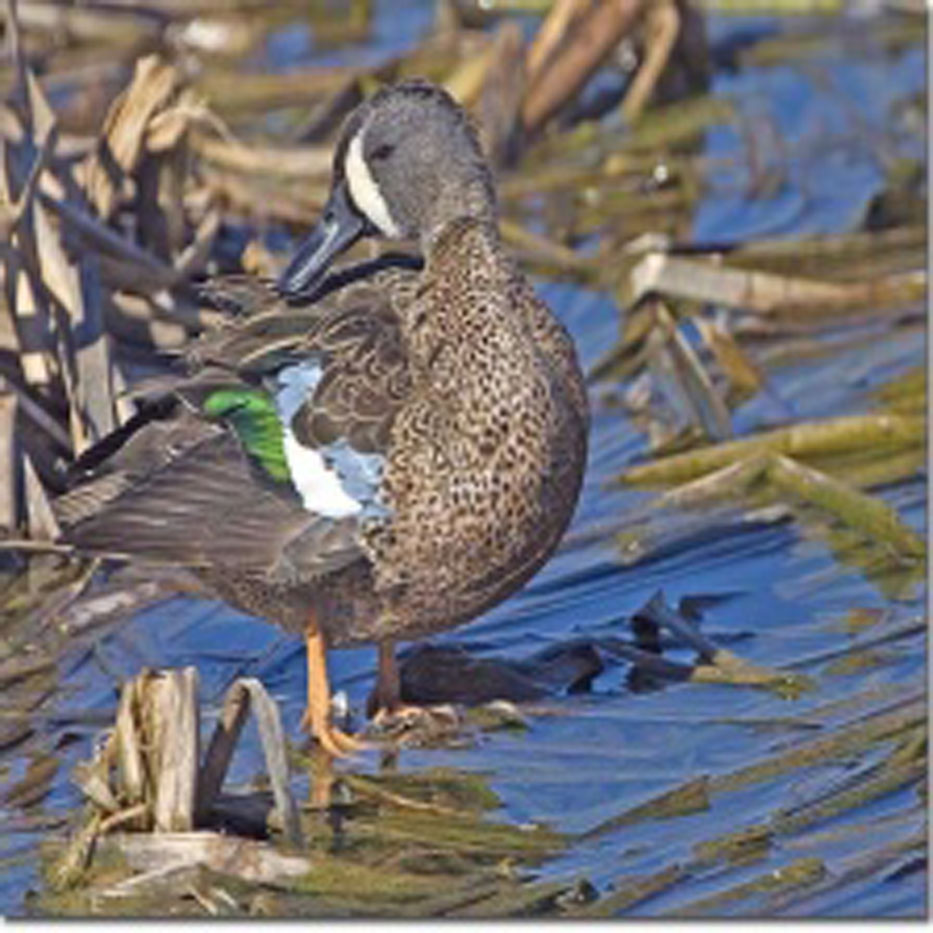Mencari Makan di Lumpur: (254, 175, 368, 297)
